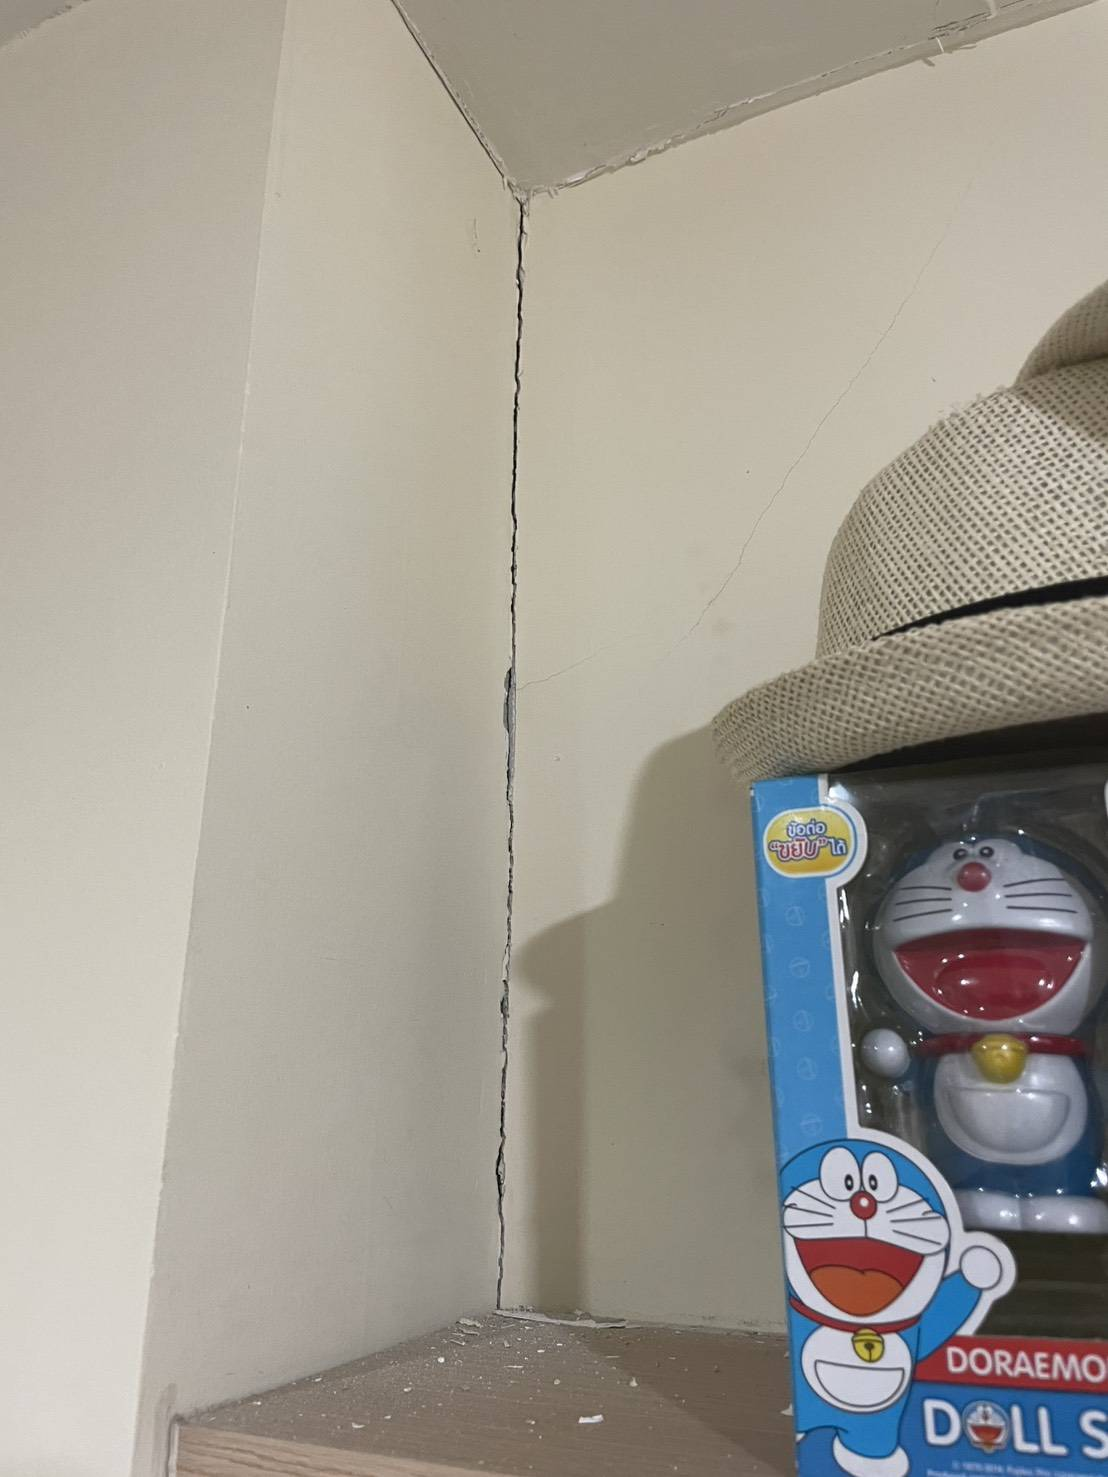Low: (466, 173, 561, 1318)
